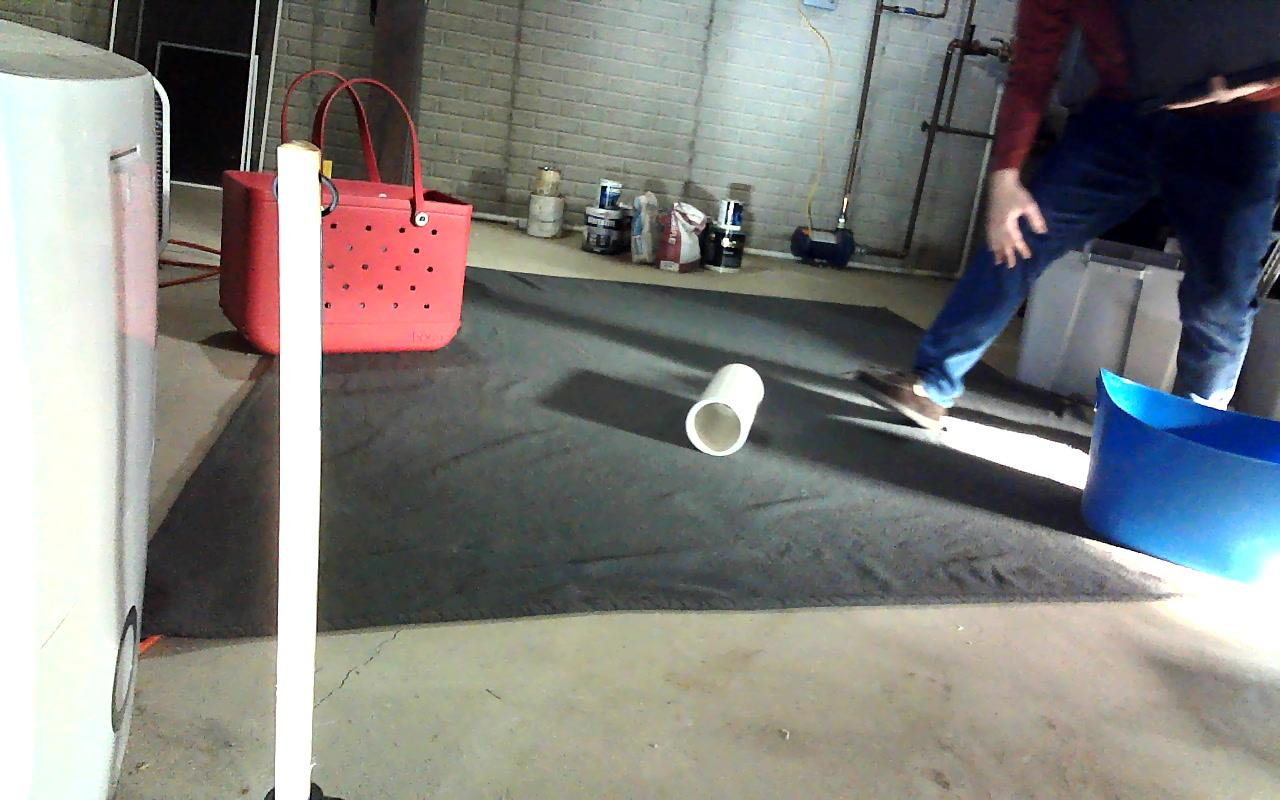coral: (686, 363, 765, 455)
